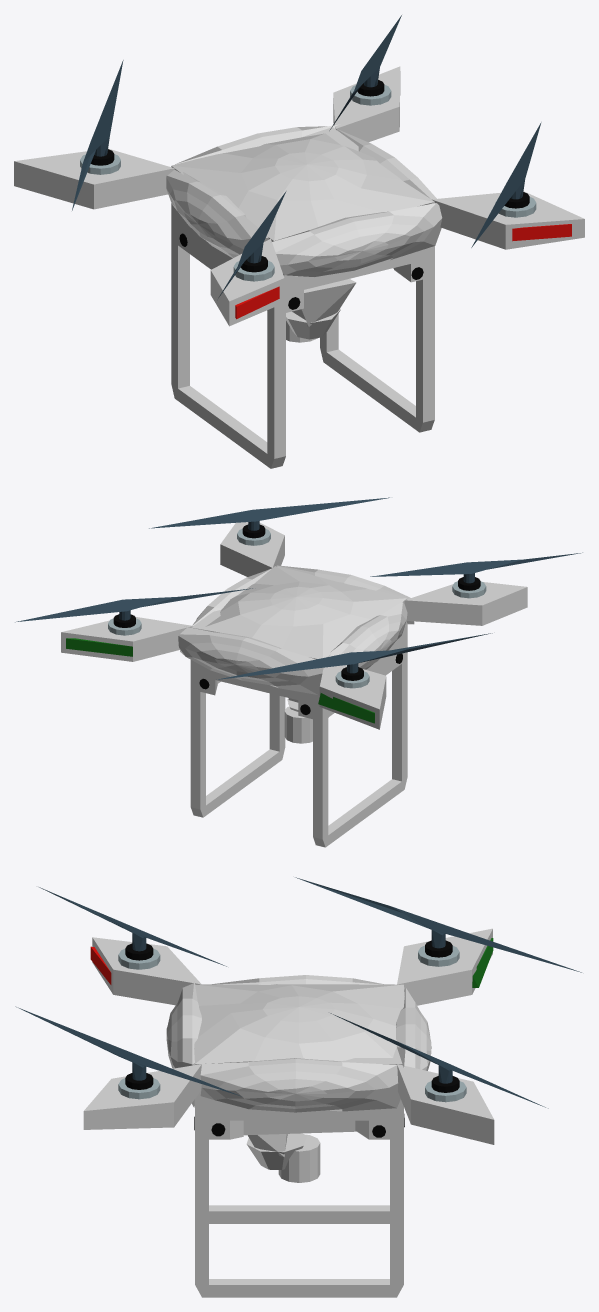
3 renders of one model, top to bottom at view 1: azimuth 30°, elevation 25°; view 2: azimuth 150°, elevation 25°; view 3: azimuth 270°, elevation 25°, orthographic. The views are drawn at different scales.
Visible parts, largest first — view 1: group1802215358, group1900742671, group1635633909, group2109774117, group1451992339, group1947824049, group1434348068, group1351310026, group562219596, group1472813429, group1719908566, group1345748236 (+13 smaller); view 2: group1802215358, group2114471358, group1351310026, group1947824049, group2109774117, group1451992339, group1635633909, group1472813429, group1506967990, group1434348068, group1326258638, group255131489 (+11 smaller); view 3: group1802215358, group992375522, group2109774117, group1947824049, group1635633909, group1351310026, group1345748236, group1719908566, group1726010505, group1506967990, group562219596, group1900742671 (+10 smaller).
Part boxes in pixels (bbox=[...]): group1802215358: bbox=[171, 133, 434, 240]; group1900742671: bbox=[270, 203, 442, 276]; group1635633909: bbox=[14, 148, 174, 209]; group2109774117: bbox=[431, 191, 584, 249]; group1451992339: bbox=[166, 169, 269, 257]; group1947824049: bbox=[333, 66, 400, 142]; group1434348068: bbox=[267, 294, 285, 458]; group1351310026: bbox=[210, 238, 284, 326]; group562219596: bbox=[416, 258, 434, 422]; group1472813429: bbox=[171, 222, 189, 388]; group1719908566: bbox=[171, 384, 285, 468]; group1345748236: bbox=[320, 347, 434, 432]; group1802215358: bbox=[205, 566, 407, 658]; group2114471358: bbox=[178, 626, 323, 694]; group1351310026: bbox=[404, 582, 527, 625]; group1947824049: bbox=[61, 616, 192, 661]; group2109774117: bbox=[220, 522, 284, 576]; group1451992339: bbox=[328, 602, 407, 669]; group1635633909: bbox=[319, 665, 386, 729]; group1472813429: bbox=[313, 704, 328, 839]; group1506967990: bbox=[190, 674, 205, 809]; group1434348068: bbox=[392, 644, 407, 781]; group1326258638: bbox=[216, 633, 492, 679]; group255131489: bbox=[149, 497, 389, 528]; group1802215358: bbox=[194, 984, 404, 1063]; group992375522: bbox=[200, 1058, 400, 1112]; group2109774117: bbox=[83, 1064, 201, 1129]; group1947824049: bbox=[397, 1064, 494, 1144]; group1635633909: bbox=[397, 928, 492, 1005]; group1351310026: bbox=[92, 937, 201, 1005]; group1345748236: bbox=[195, 1279, 403, 1297]; group1719908566: bbox=[209, 1205, 389, 1223]; group1726010505: bbox=[195, 1095, 403, 1120]; group1506967990: bbox=[390, 1120, 403, 1284]; group562219596: bbox=[195, 1120, 208, 1284]; group1900742671: bbox=[166, 982, 201, 1107].
Size of the model in its own units: 0.77 by 0.42 by 0.82.
